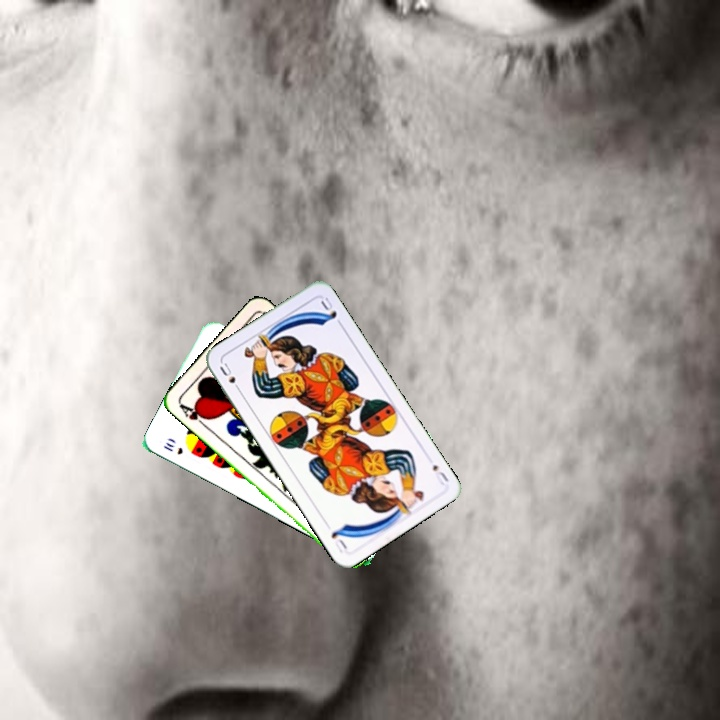HA: (175, 400, 212, 431)
S10: (159, 438, 186, 457)
SU: (215, 359, 244, 395), (428, 460, 451, 488)
